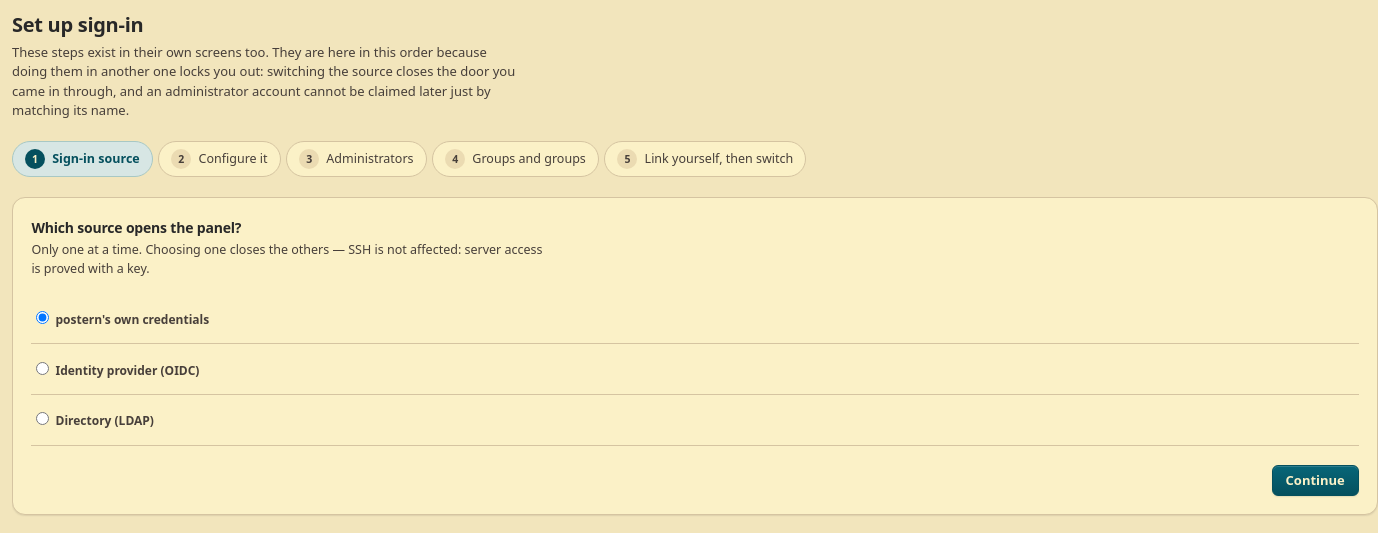
kurulum sihirbazi › oidc'de once baglanamayacagini acikca soyler
Expected: the heading "Which source opens the panel?" is shown, [31, 218, 241, 237]
Click the radio button labelled "Identity provider (OIDC)" at point(43, 368), box [36, 362, 49, 375]
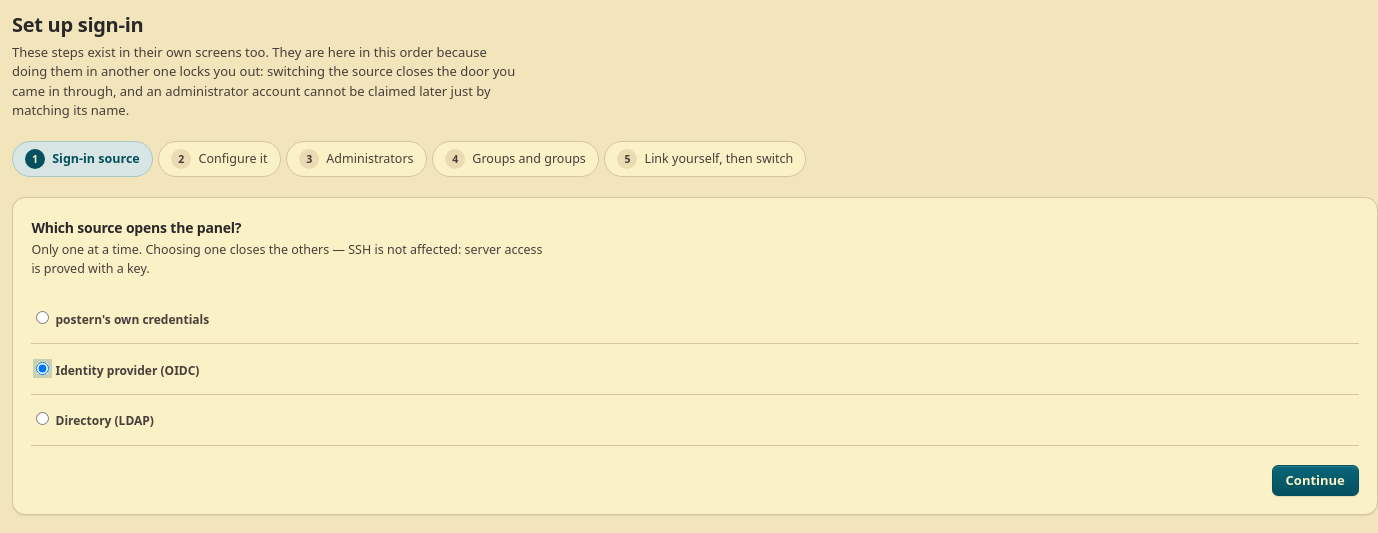
Click the button "5 Link yourself, then switch" at point(705, 159), box [604, 141, 806, 177]
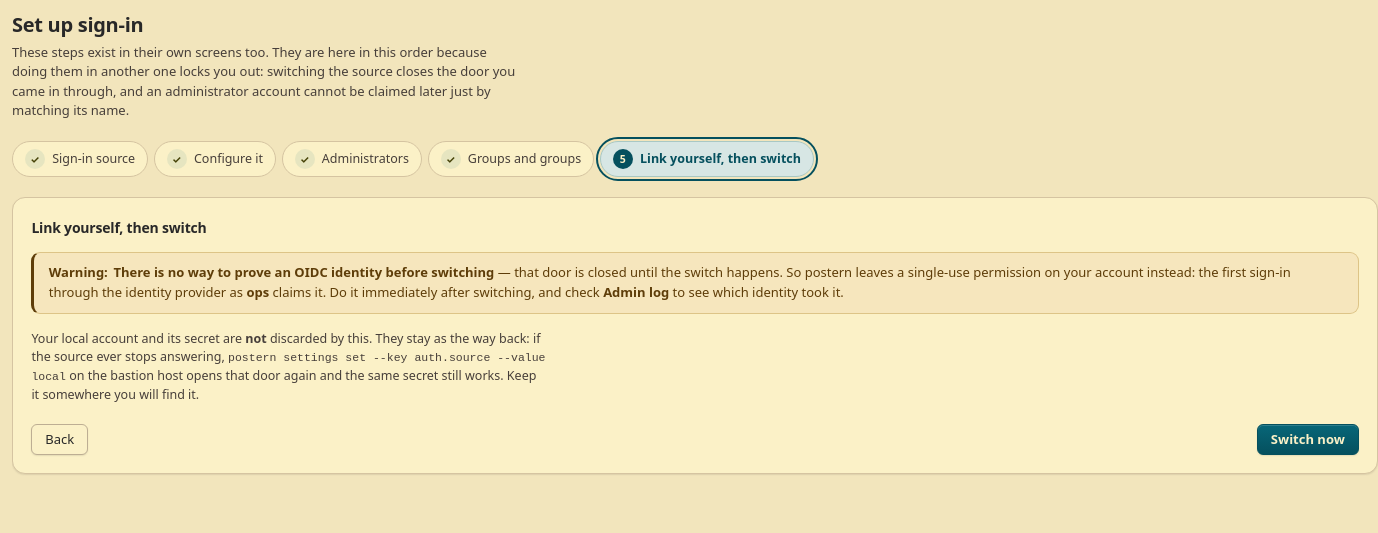
Now the text "There is no way to prove an OIDC identity before switching" is shown, box [113, 263, 494, 281]
Now the text "single-use permission" is shown, box [49, 263, 1291, 301]
